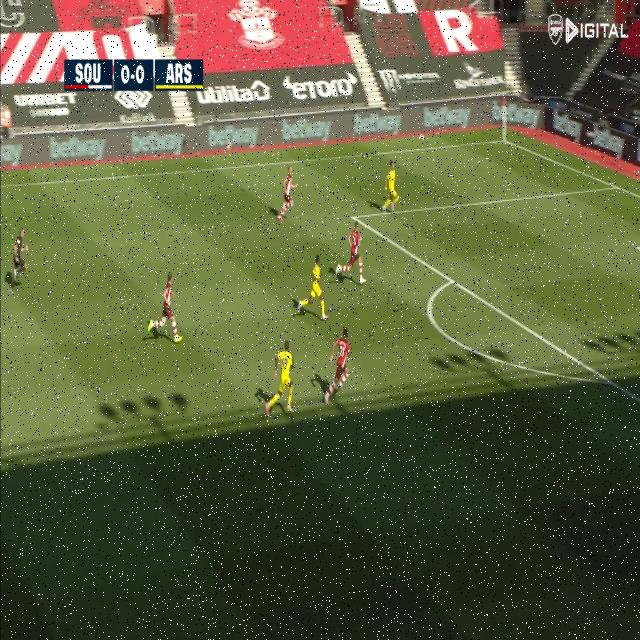TEAM 1: (148, 264, 186, 348), (334, 218, 370, 296), (325, 323, 349, 409), (277, 166, 299, 231)
TEAM 2: (262, 335, 296, 424), (293, 250, 330, 324), (376, 154, 402, 223)
